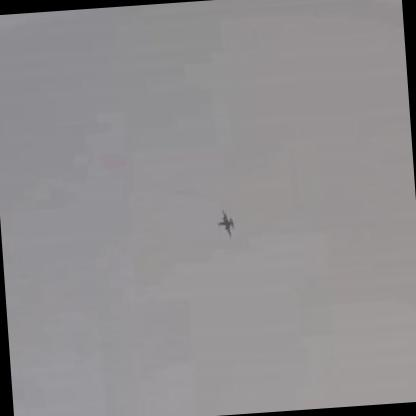plane: (215, 206, 235, 239)
